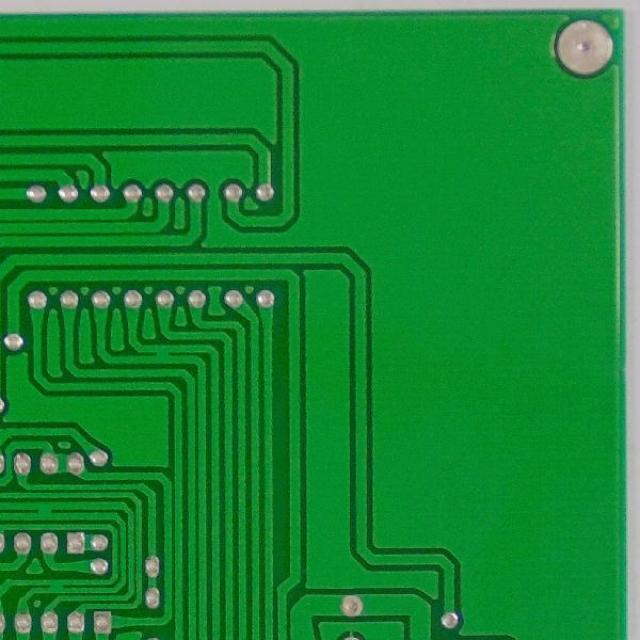Short_Circuit: (143, 340, 178, 370), (32, 498, 62, 524), (42, 575, 72, 598)
